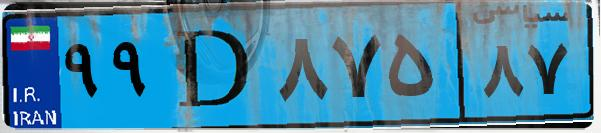5: (385, 28, 445, 110)
7: (330, 28, 385, 110), (525, 38, 570, 115)
8: (270, 28, 330, 110), (475, 38, 525, 113)
9: (57, 26, 110, 100), (110, 28, 158, 98)
D: (158, 12, 270, 120)
